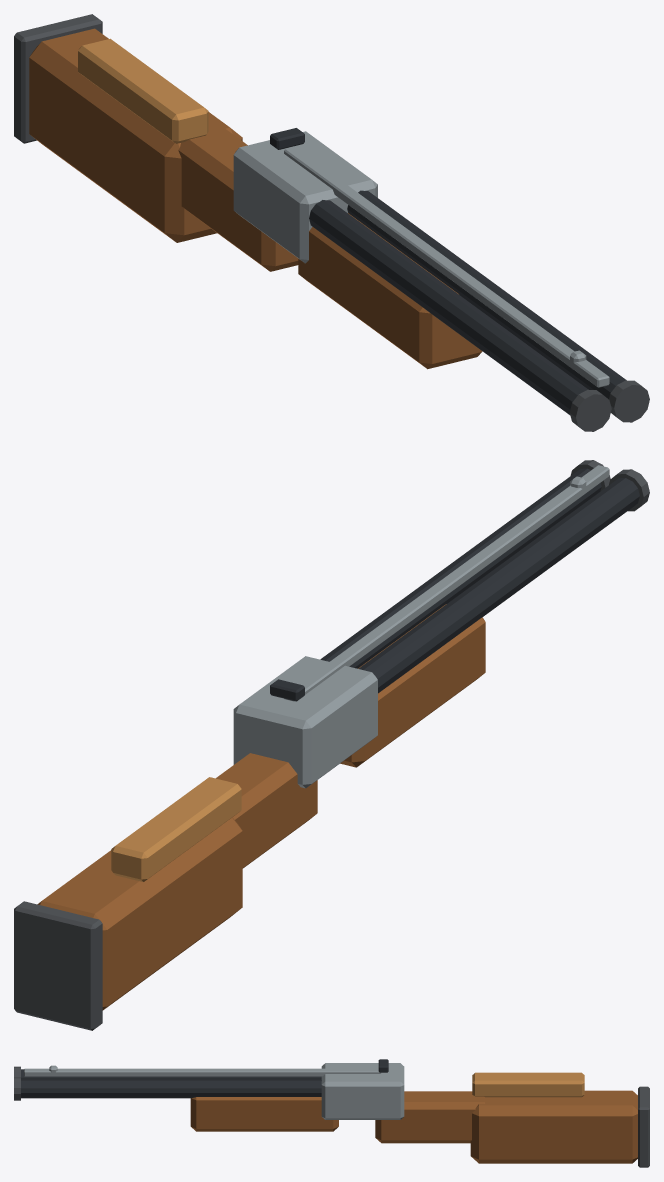
Rendered from Shotgun.glb.
3 views of the same model, one above another, from view 1: azimuth 30°, elevation 25°; view 2: azimuth 150°, elevation 25°; view 3: azimuth 270°, elevation 25° (orthographic). The views are drawn at different scales.
Visible parts, largest first — view 1: FTF_Weapon_DoubleBarrelShotgun_Wood_Mesh; view 2: FTF_Weapon_DoubleBarrelShotgun_Wood_Mesh; view 3: FTF_Weapon_DoubleBarrelShotgun_Wood_Mesh.
Boxes of the visible parts, <box> form: FTF_Weapon_DoubleBarrelShotgun_Wood_Mesh: <box>14,14,649,431</box>; FTF_Weapon_DoubleBarrelShotgun_Wood_Mesh: <box>14,460,649,1030</box>; FTF_Weapon_DoubleBarrelShotgun_Wood_Mesh: <box>14,1059,649,1167</box>.
Bounding box in the file's own units: 0.49 × 0.9575 × 5.84.
